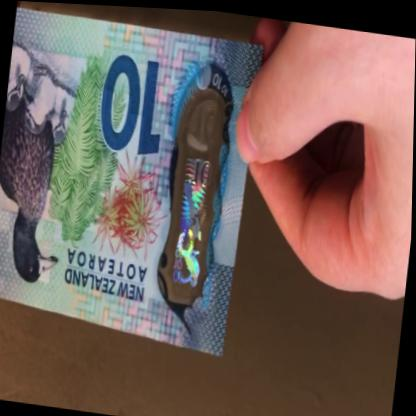10F: (165, 95, 222, 292)
